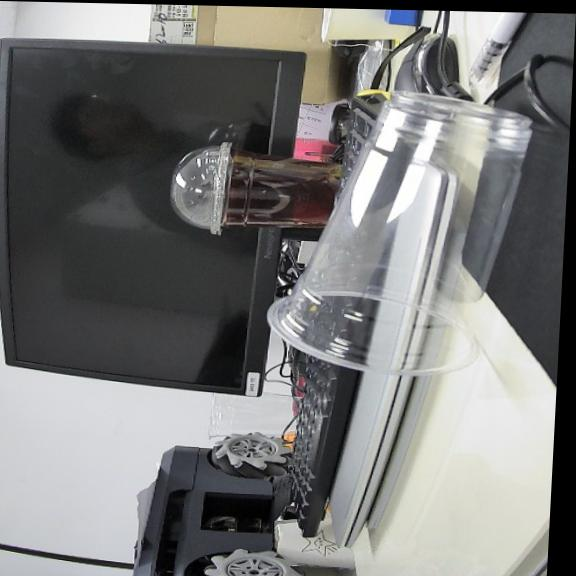Plastik: (269, 93, 532, 374)
